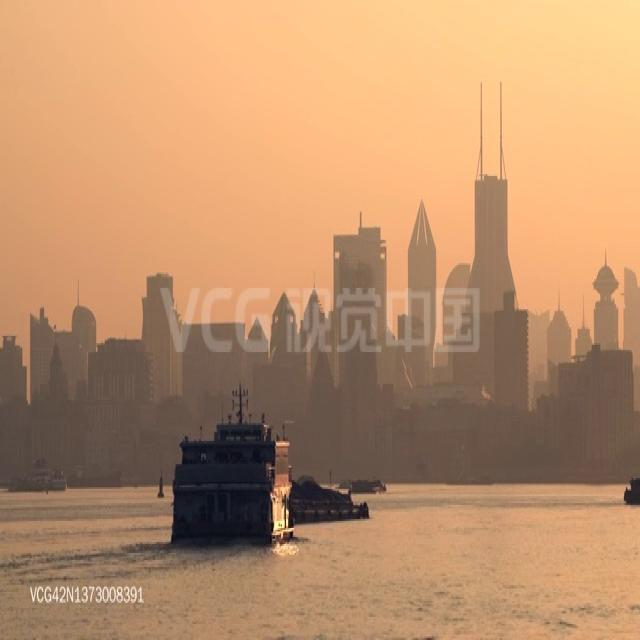cargoship: (288, 476, 363, 521), (350, 472, 388, 497), (621, 475, 640, 506), (336, 476, 353, 489)
passenger ship: (166, 390, 292, 556), (10, 453, 62, 493)
